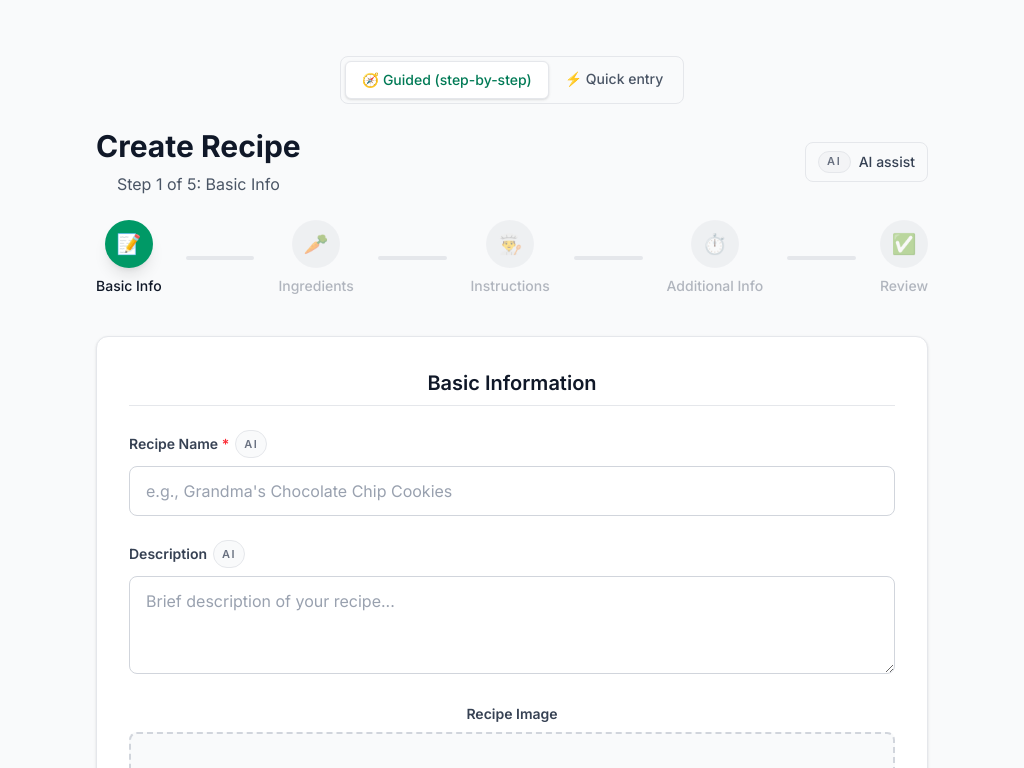
CreateRecipe - Multi-Step Wizard › Step 3: Instructions › should render instructions section
Type "Test Recipe" into the field with placeholder "e.g., Grandma's Chocolate Chip Cookies". click: (512, 491)
box: [129, 466, 895, 516]
(page scrolled)
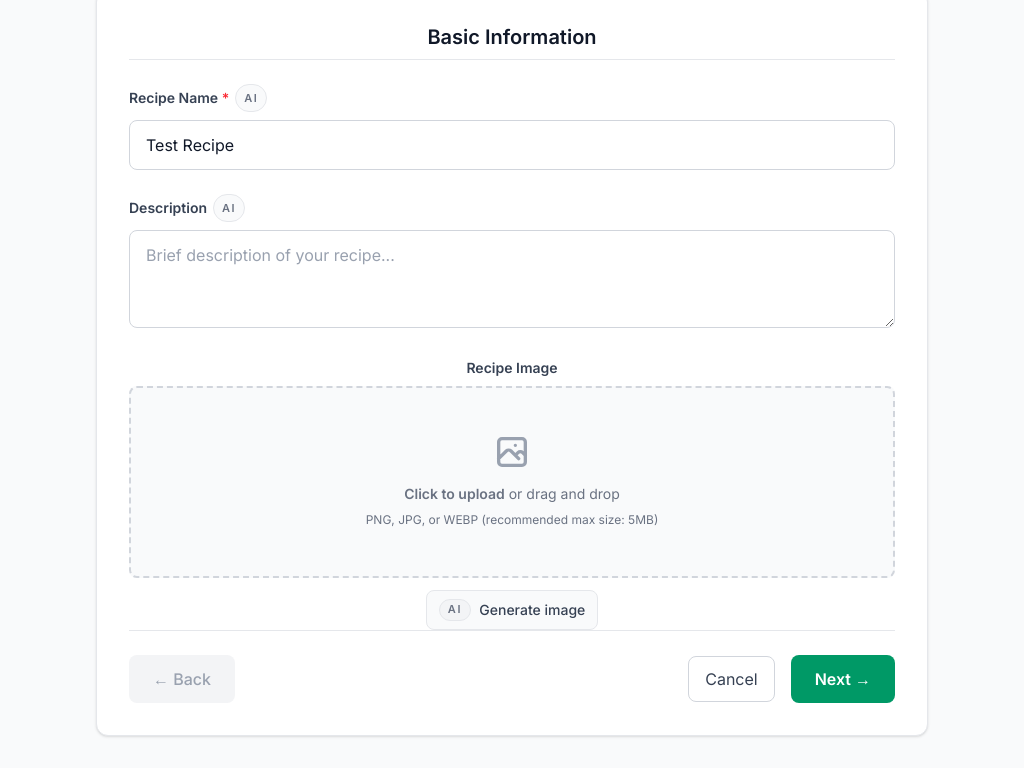
Click the button "Next →". click: (843, 679)
box: [791, 655, 895, 703]
(page scrolled)
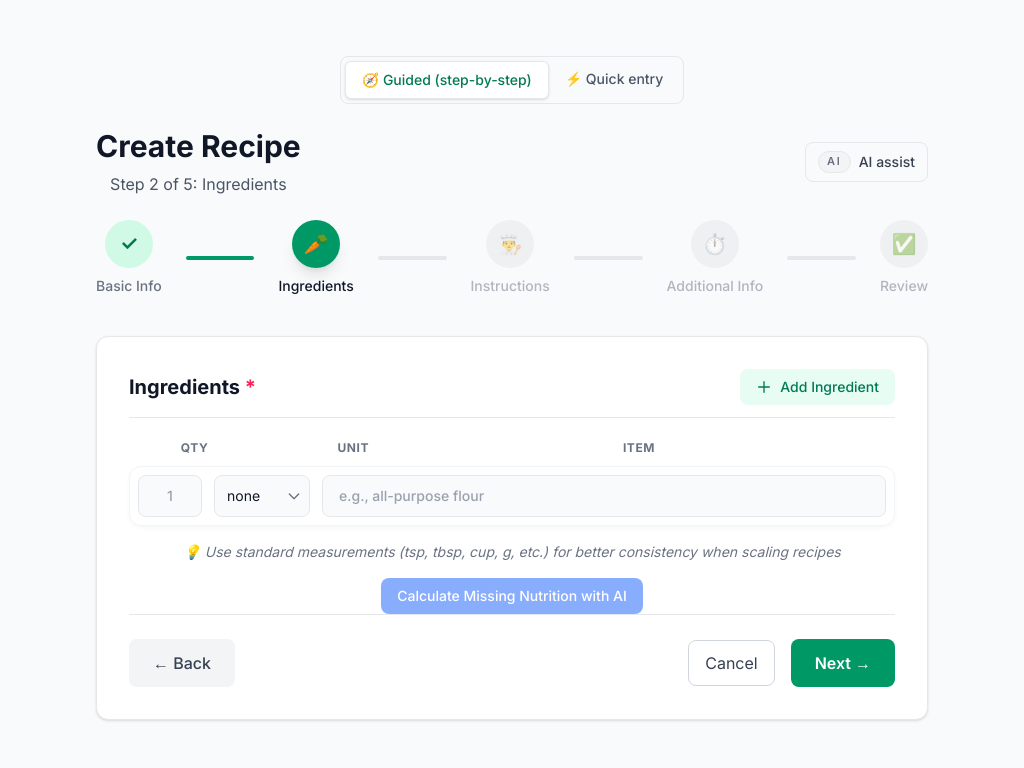
Type "flour" into the field with placeholder "e.g., all-purpose flour". click: (604, 496)
box: [322, 475, 886, 517]
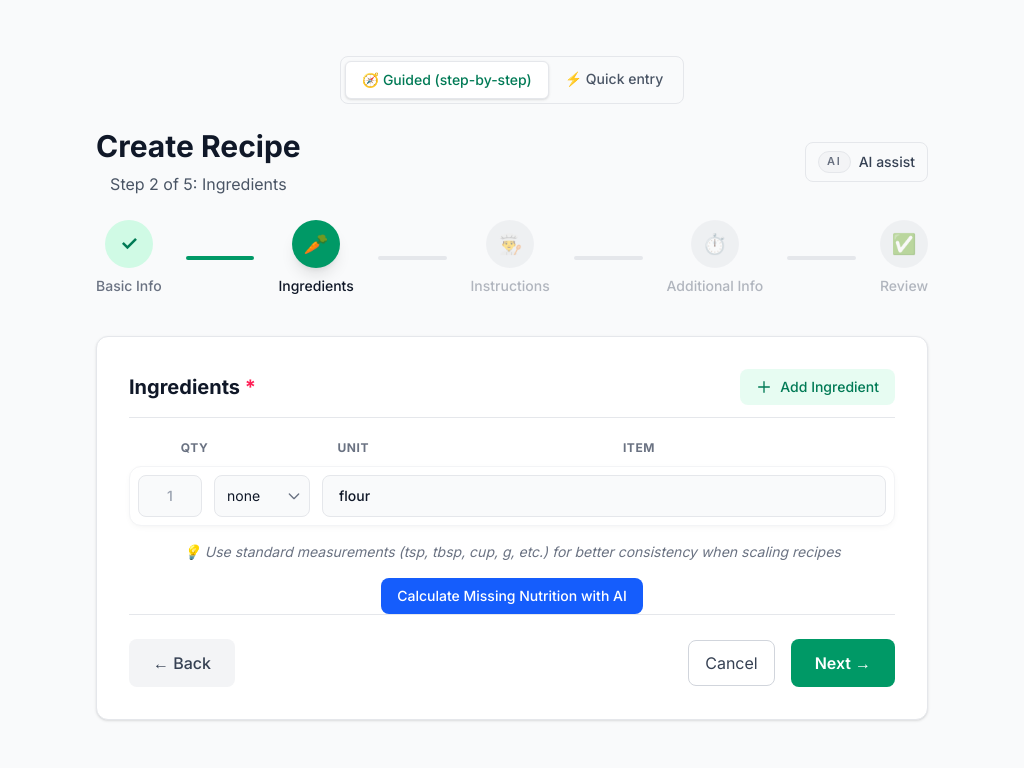
Click the button with aria-label "Go to step 3: Instructions". click: (510, 258)
box: [470, 220, 550, 296]
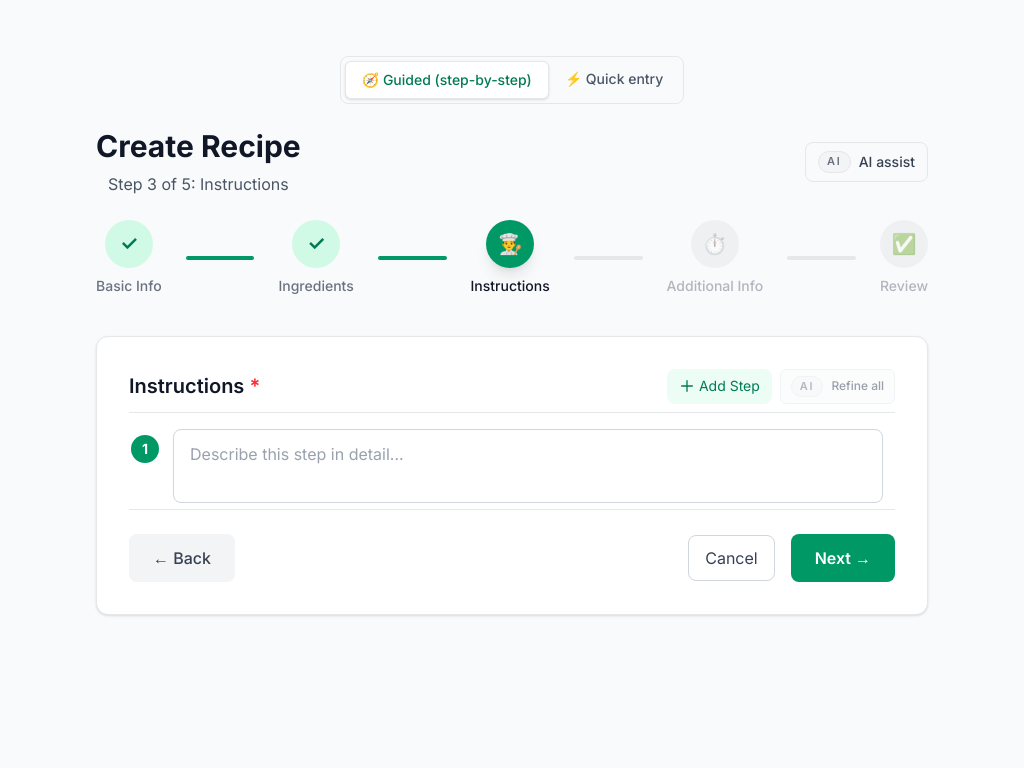
Result: the heading "Instructions *" is shown at [129, 372, 260, 400]
